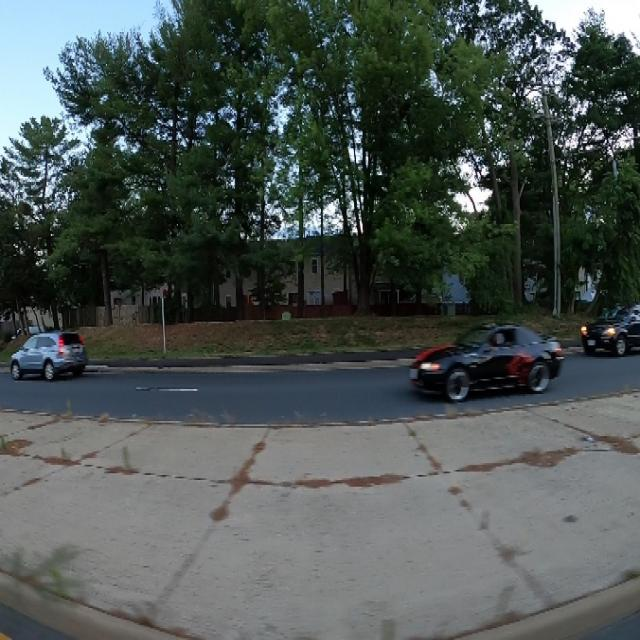car: (411, 310, 568, 416), (3, 312, 95, 384), (576, 291, 640, 363)
